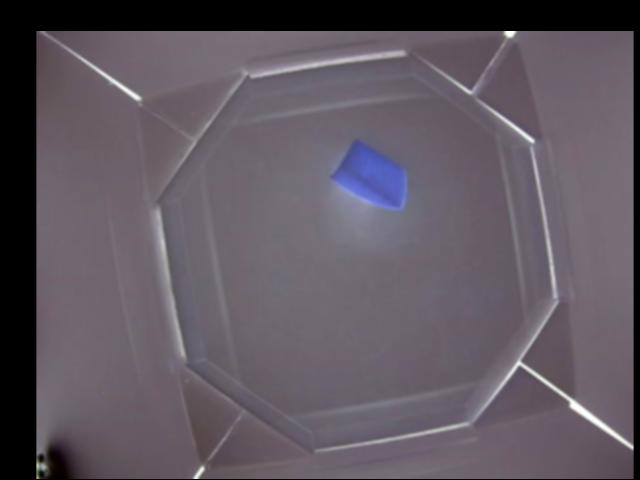Potato: (333, 142, 411, 210)
